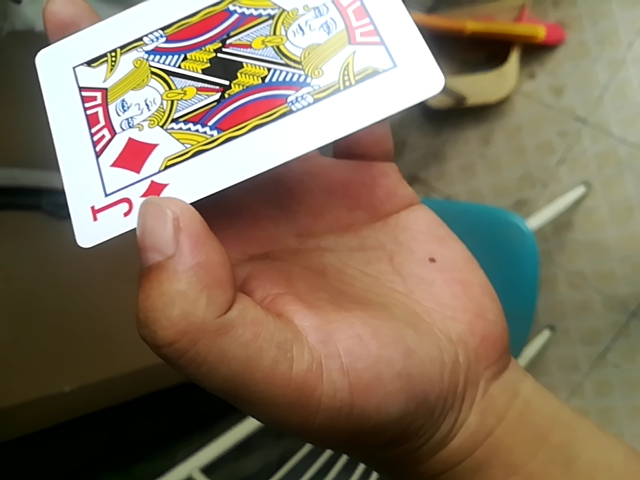fk j: (32, 0, 452, 253)
